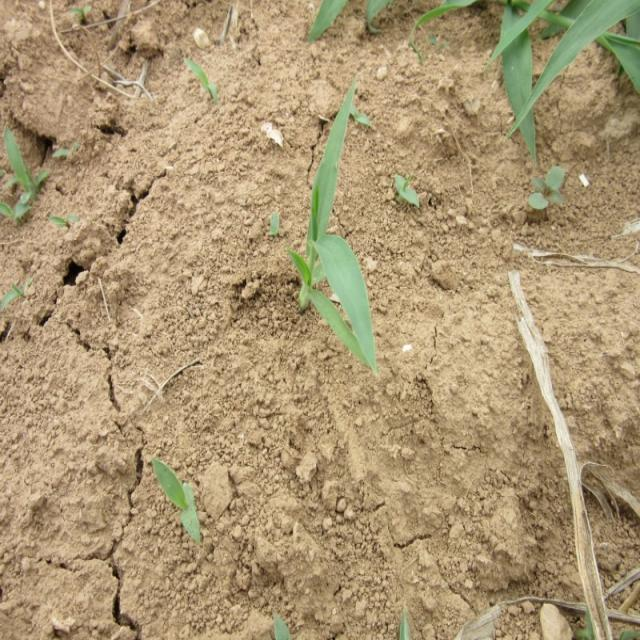bg: (282, 68, 387, 370)
